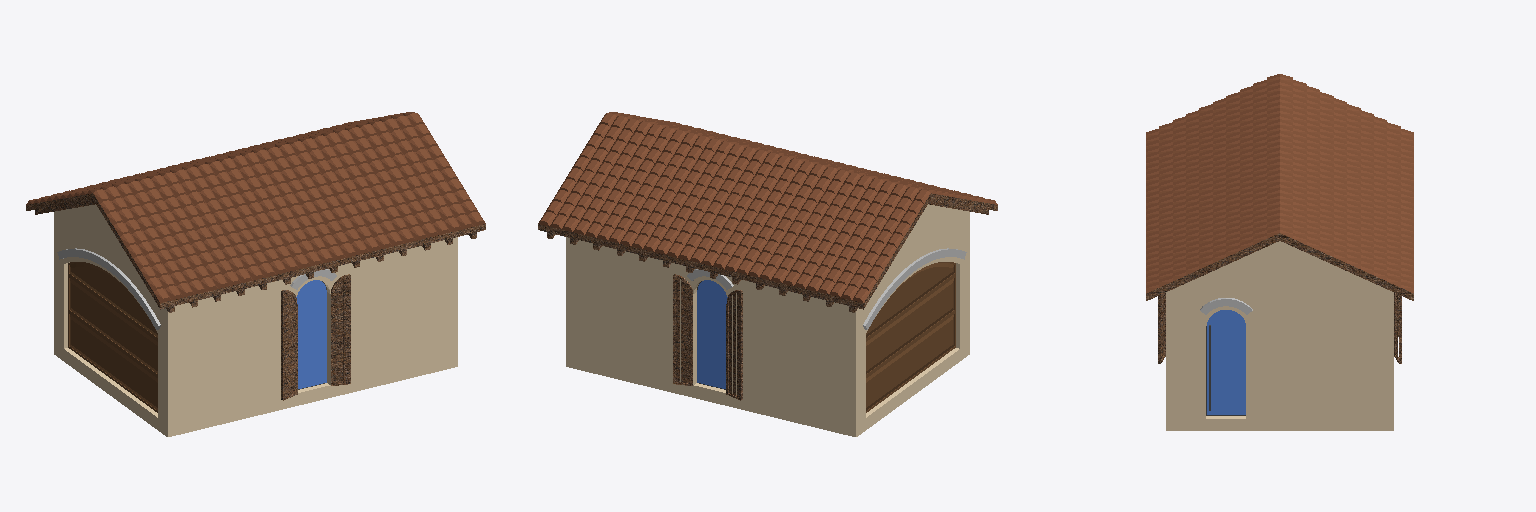
The picture shows the model from 3 angles: view 1: azimuth 30°, elevation 25°; view 2: azimuth 150°, elevation 25°; view 3: azimuth 270°, elevation 25°; orthographic projection.
Visible parts, largest first — view 1: Mesh690_Model_001, Mesh690_Model_003, Mesh690_Model_010, Mesh690_Model_002, Mesh690_Model_011, Mesh690_Model_004; view 2: Mesh690_Model_001, Mesh690_Model_003, Mesh690_Model_010, Mesh690_Model_002, Mesh690_Model_011, Mesh690_Model_004; view 3: Mesh690_Model_001, Mesh690_Model_003, Mesh690_Model_011, Mesh690_Model_002.
Boxes of the visible parts, x1=… form: Mesh690_Model_001: x1=26, y1=112, x2=485, y2=302; Mesh690_Model_003: x1=54, y1=204, x2=457, y2=436; Mesh690_Model_010: x1=68, y1=262, x2=157, y2=412; Mesh690_Model_002: x1=26, y1=193, x2=485, y2=400; Mesh690_Model_011: x1=296, y1=280, x2=326, y2=388; Mesh690_Model_004: x1=57, y1=248, x2=336, y2=329; Mesh690_Model_001: x1=538, y1=112, x2=997, y2=302; Mesh690_Model_003: x1=566, y1=204, x2=969, y2=436; Mesh690_Model_010: x1=866, y1=262, x2=955, y2=412; Mesh690_Model_002: x1=538, y1=192, x2=997, y2=400; Mesh690_Model_011: x1=697, y1=280, x2=727, y2=388; Mesh690_Model_004: x1=687, y1=248, x2=966, y2=329; Mesh690_Model_001: x1=1146, y1=74, x2=1413, y2=292; Mesh690_Model_003: x1=1166, y1=241, x2=1393, y2=430; Mesh690_Model_011: x1=1207, y1=310, x2=1245, y2=414; Mesh690_Model_002: x1=1146, y1=233, x2=1413, y2=363.
Bounding box in the file's own units: 77.69 × 47.61 × 55.49.
12 materials, 1 textured.